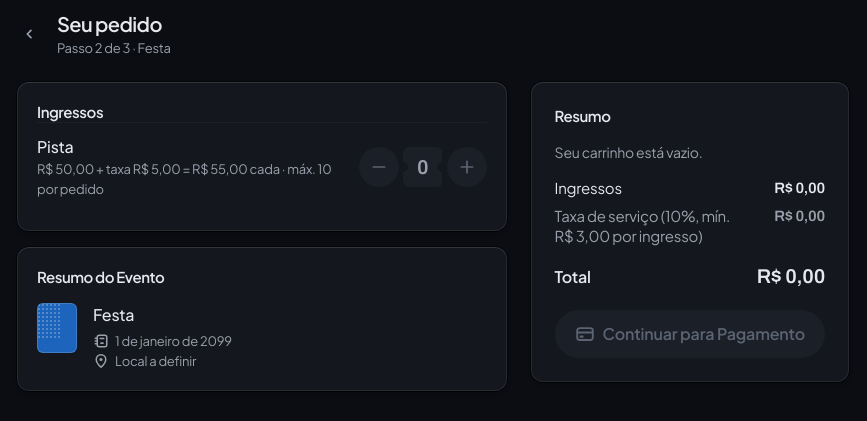
Test: Checkout: meia-entrada › meia órfã (tipo sem meia na vitrine) sai do carrinho e não conta no teto
The width and height of the screenshot is (867, 421).
What coordinates should you click on to do the following:
click the button named "Adicionar um Pista"
I would click on:
 (467, 167)
Its box is [447,147,487,187].
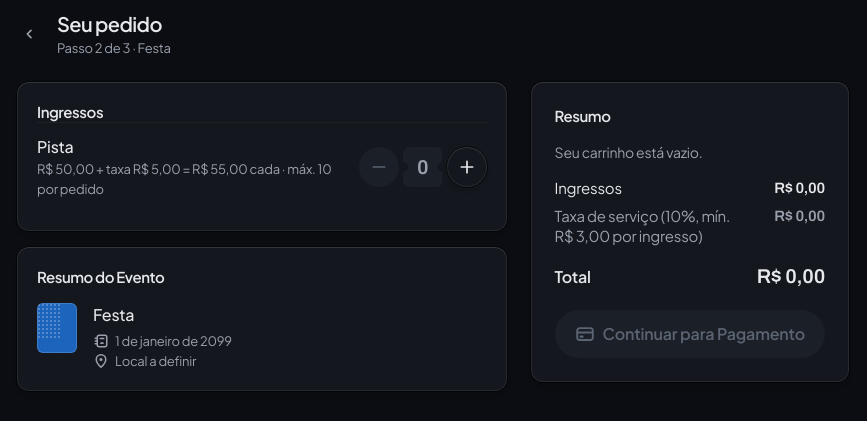
What coordinates should you click on to do the following:
click the button named "Adicionar um Pista"
I would click on:
 (467, 167)
Its box is [447,147,487,187].
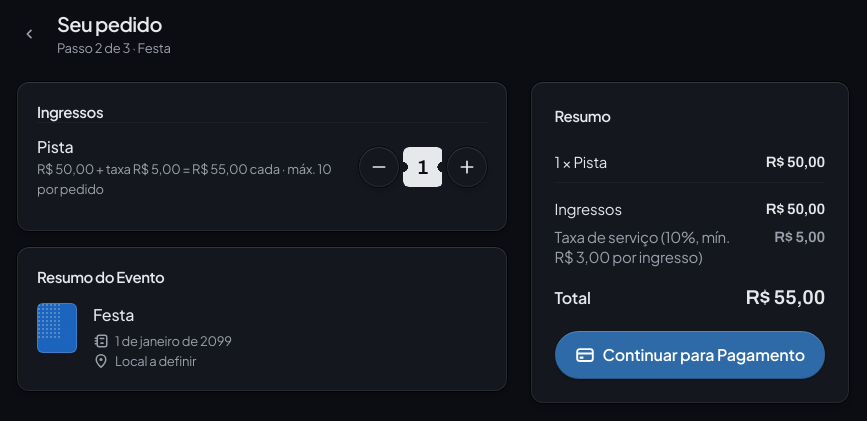
Check: the text "1 × Pista" is shown, box [555,152,607,172]
